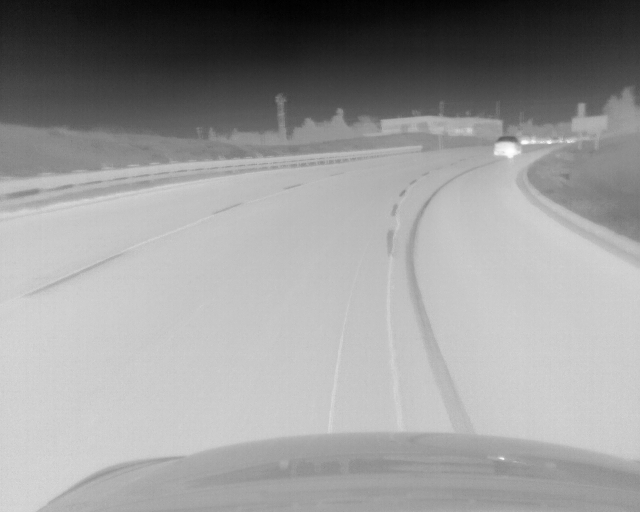car: (493, 133, 524, 158)
